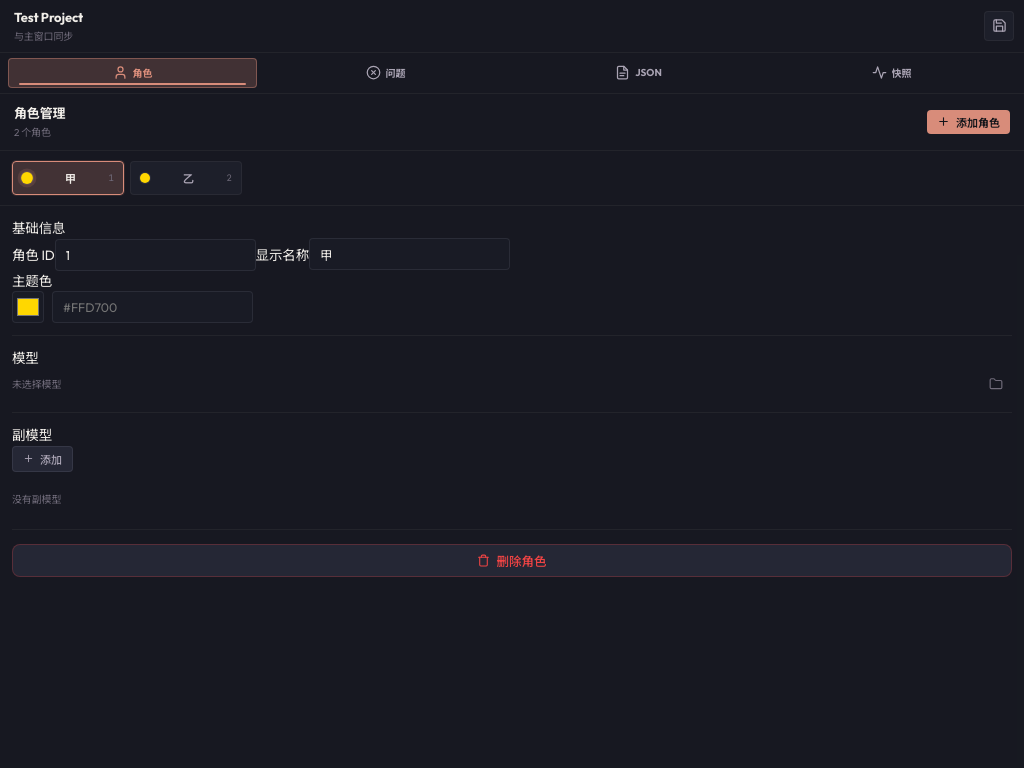
Test: WorkspaceToolsWindow script draft › blocks a duplicate character id in the detached character panel
Replace the text in the field labelled "角色 ID" with "2" at (155, 255), box 55,239 -> 256,271
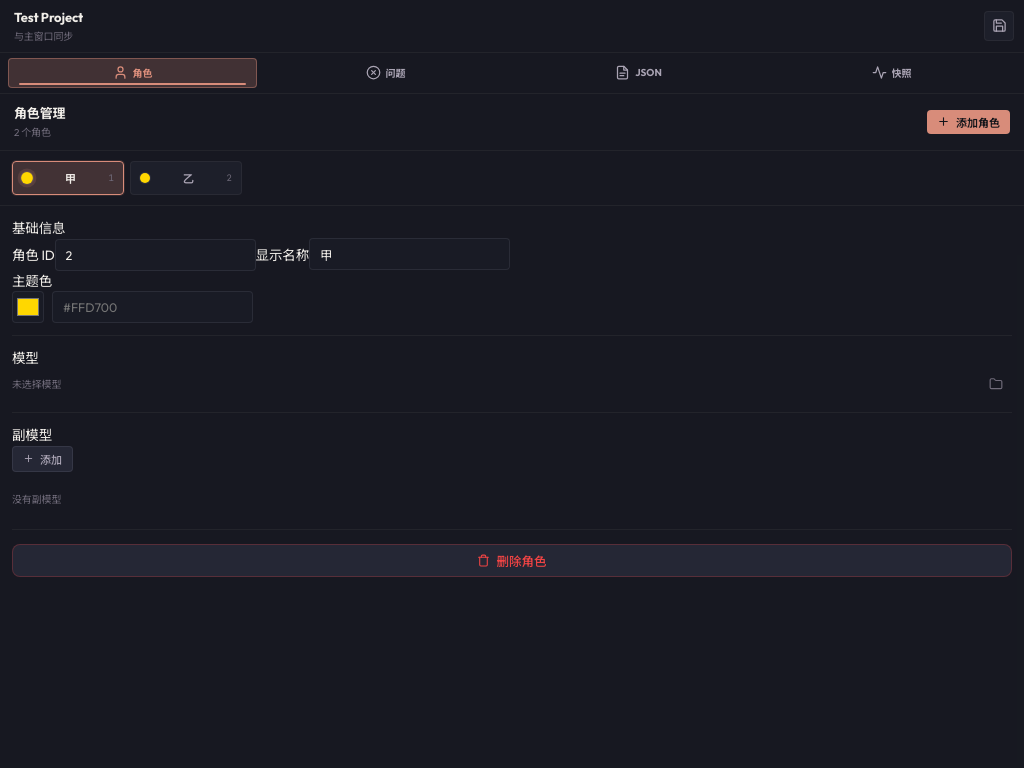
Leave the field labelled "角色 ID", box 55,239 -> 256,271
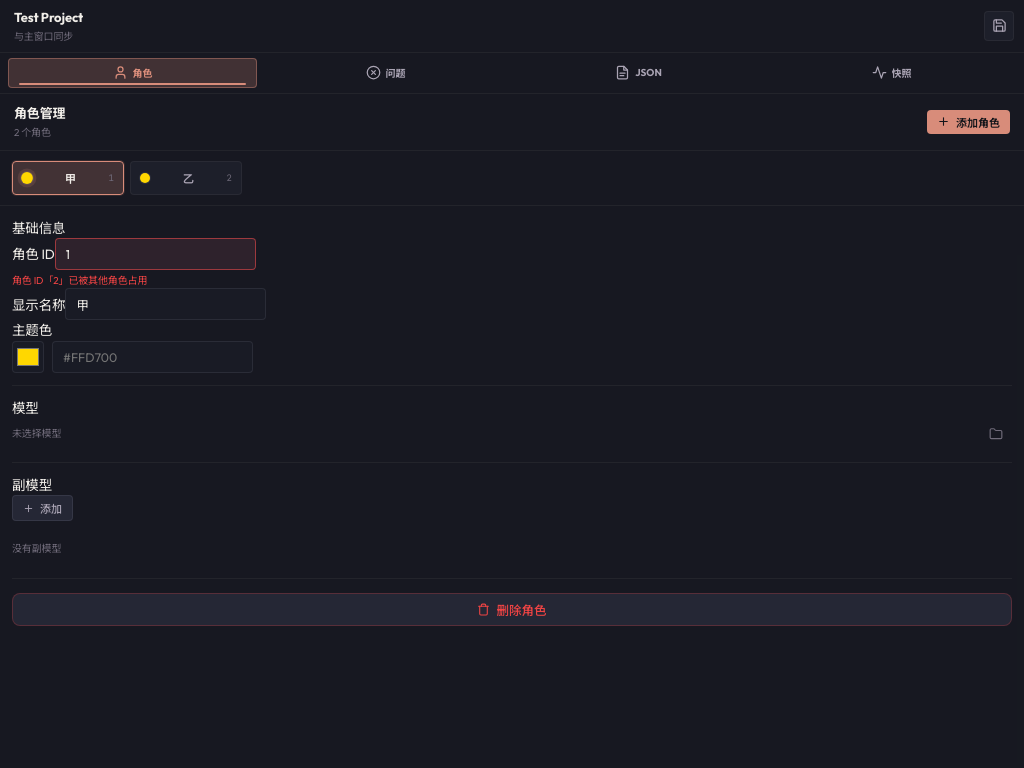
Expected: the message shows "已被其他角色占用", 12,274 -> 147,287
Expected: the field labelled "角色 ID" holds "1", 55,238 -> 256,270
